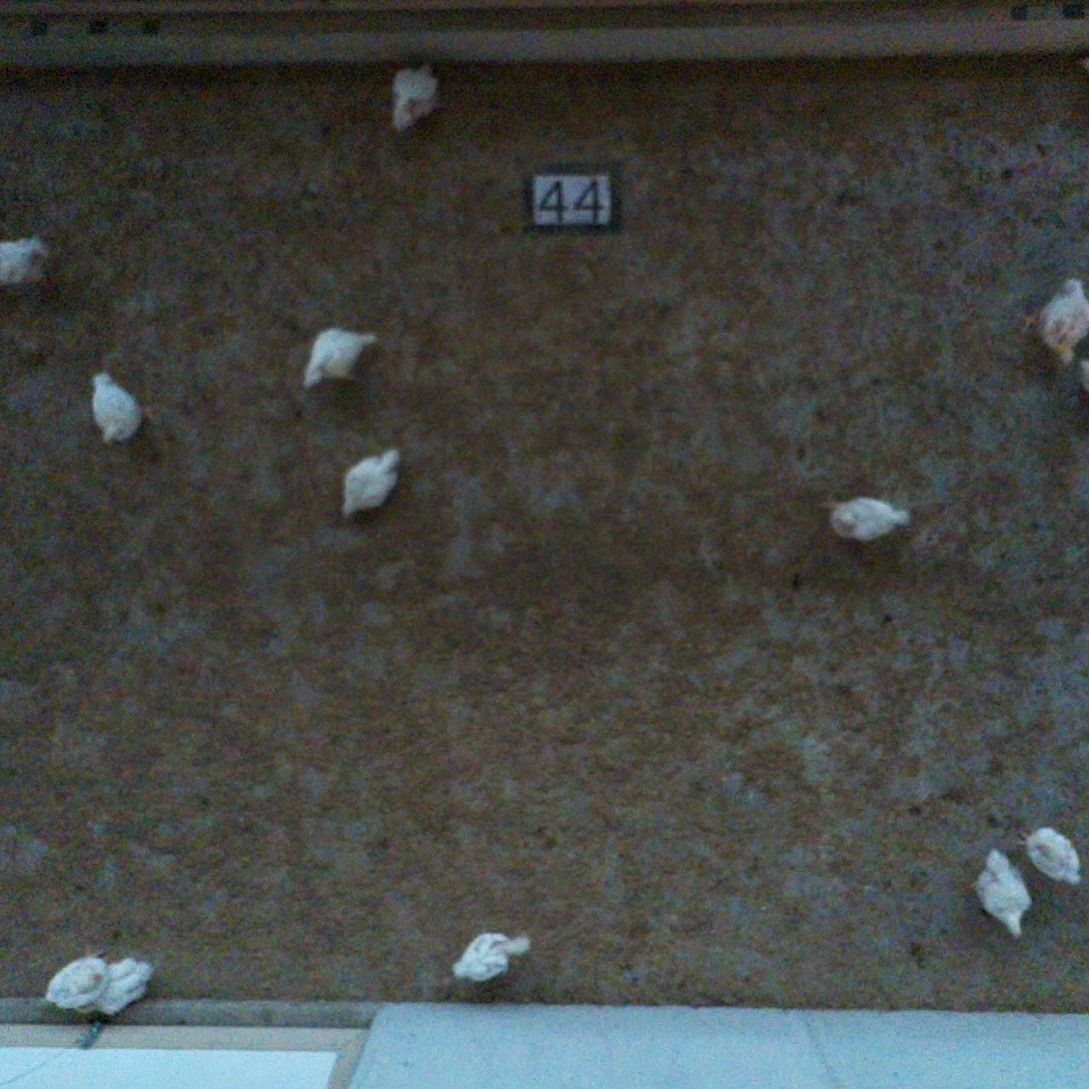chicken: (78, 369, 171, 455), (301, 316, 381, 414), (329, 441, 411, 531), (979, 835, 1035, 954), (450, 922, 539, 988), (1027, 272, 1083, 371), (379, 62, 449, 139), (1018, 817, 1088, 893), (36, 956, 113, 1025), (830, 486, 905, 553), (97, 956, 162, 1026), (1, 228, 57, 302), (1077, 358, 1089, 394)
